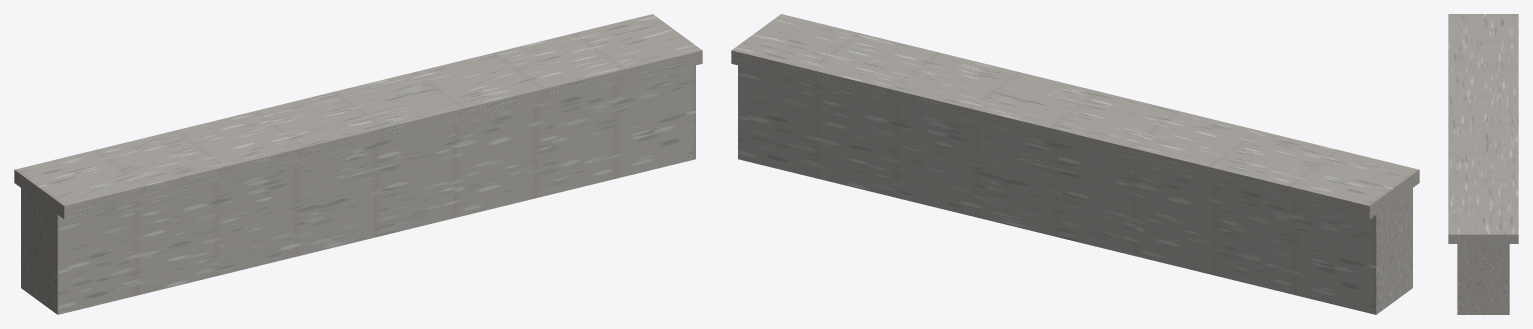
The model's file is seawall.obj.
3 views of the same model, side by side, from view 1: azimuth 30°, elevation 25°; view 2: azimuth 150°, elevation 25°; view 3: azimuth 270°, elevation 25° (orthographic). The views are drawn at different scales.
Bounding box in the file's own units: 20 × 3.4 × 2.7.
Materials: 1 (1 with a texture image).
